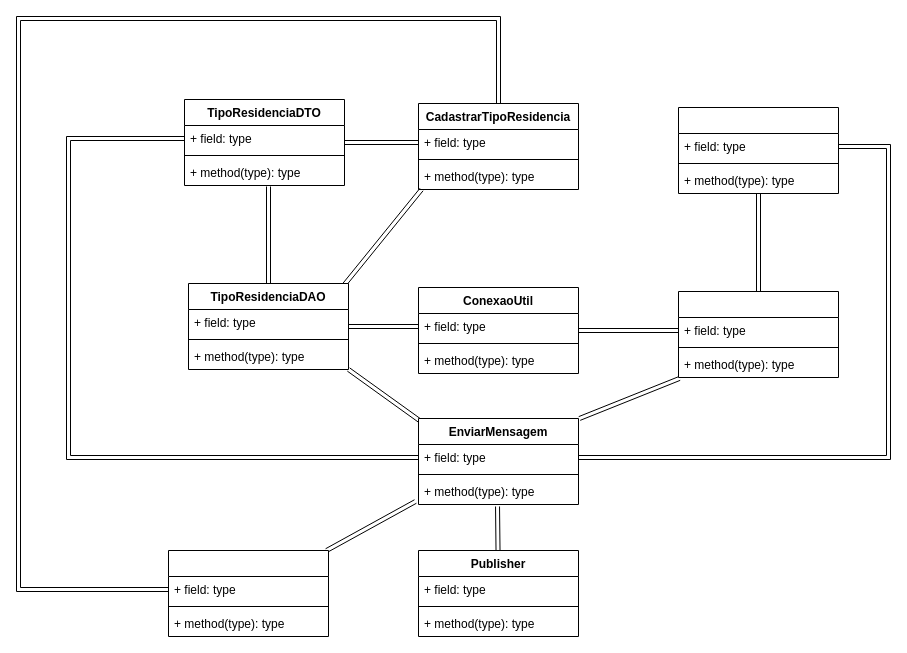
Image size: 907x653. Some labels were removed from this diagram. The box of each missing label's shape, as (x1, y1, x2, y2) in pixels:
Main: (168, 550, 328, 636)
MunicipioDAO: (678, 290, 838, 378)
MunicipioDTO: (678, 106, 838, 194)
